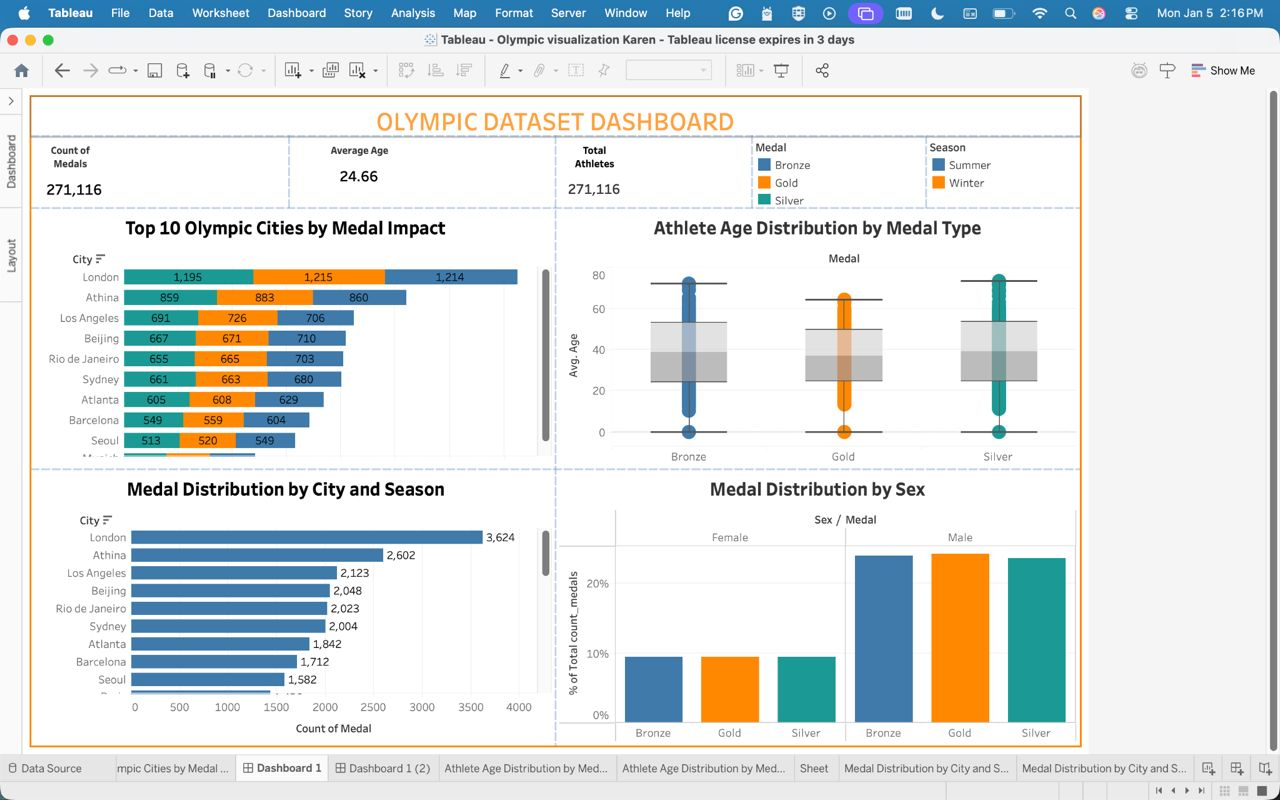

This screenshot's page, from the dashboard's own definition file:
{"tool":"tableau","page":{"name":"Dashboard 1","canvas":[1200,750],"ordinal":0},"visuals":[{"type":"worksheet","title":"TITLE","mark":"Automatic","box":[10,10,1180,44]},{"type":"worksheet","title":"Count of Medals","mark":"Automatic","box":[10,54,290.1,81.4]},{"type":"worksheet","title":"Average Age","mark":"Automatic","box":[300.2,54,299.8,81.4]},{"type":"worksheet","title":"Number of Athletes","mark":"Automatic","box":[600,54,220.6,81.4]},{"type":"legend","title":"Top 10 Olympic Cities by Medal Impact","param":"[federated.1855o8211orcr2134aeol0gl3bys].[none:Medal:nk]","box":[820.6,54,196.7,81.4]},{"type":"legend","title":"Medal Distribution by City and Season","param":"[federated.1855o8211orcr2134aeol0gl3bys].[none:Season:nk]","box":[1017.3,54,172.7,81.4]},{"type":"worksheet","title":"Top 10 Olympic Cities by Medal Impact","mark":"Automatic","rows":["City"],"cols":["Medal"],"box":[10,135.4,590,293.1]},{"type":"worksheet","title":"Athlete Age Distribution by Medal Type","mark":"Circle","rows":["Age"],"cols":["Medal"],"box":[600,135.4,590,293.1]},{"type":"worksheet","title":"Medal Distribution by City and Season","mark":"Automatic","rows":["City"],"cols":["Medal"],"box":[10,428.5,590,311.5]},{"type":"worksheet","title":"Medal Distribution by Sex1","mark":"Automatic","rows":["Calculation_1070261039828992"],"cols":["Sex","Medal"],"box":[600,428.5,590,311.5]}]}

Visuals, with their boxes on the page's 1200x750 design canvas (x1, y1, x2, y2). These are canvas units, not pixel positions in the 1280x800 screenshot, which may show the page scaled, cropped or inside an application window:
"TITLE" worksheet: {"left": 10, "top": 10, "right": 1190, "bottom": 54}
"Count of Medals" worksheet: {"left": 10, "top": 54, "right": 300, "bottom": 135}
"Average Age" worksheet: {"left": 300, "top": 54, "right": 600, "bottom": 135}
"Number of Athletes" worksheet: {"left": 600, "top": 54, "right": 821, "bottom": 135}
"Top 10 Olympic Cities by Medal Impact" legend: {"left": 821, "top": 54, "right": 1017, "bottom": 135}
"Medal Distribution by City and Season" legend: {"left": 1017, "top": 54, "right": 1190, "bottom": 135}
"Top 10 Olympic Cities by Medal Impact" worksheet: {"left": 10, "top": 135, "right": 600, "bottom": 428}
"Athlete Age Distribution by Medal Type" worksheet (Circle marks): {"left": 600, "top": 135, "right": 1190, "bottom": 428}
"Medal Distribution by City and Season" worksheet: {"left": 10, "top": 428, "right": 600, "bottom": 740}
"Medal Distribution by Sex1" worksheet: {"left": 600, "top": 428, "right": 1190, "bottom": 740}
